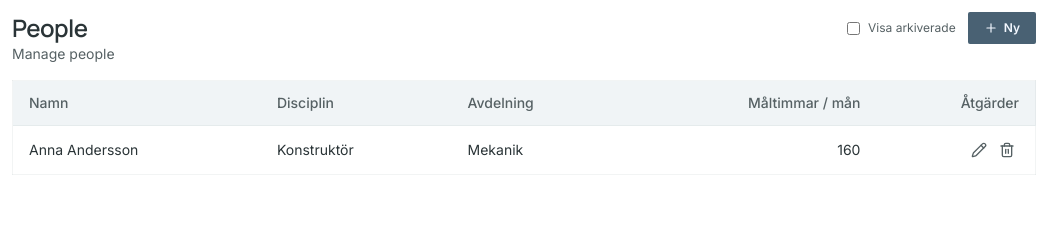
Test: Phase 43-03 — /admin/people page › archive with 409 allocations blocker shows person-specific banner
Check: the text "Anna Andersson" is shown, box [12,126,261,174]
Click the button with test id "register-archive-button": (1007, 150) [995,138,1019,162]
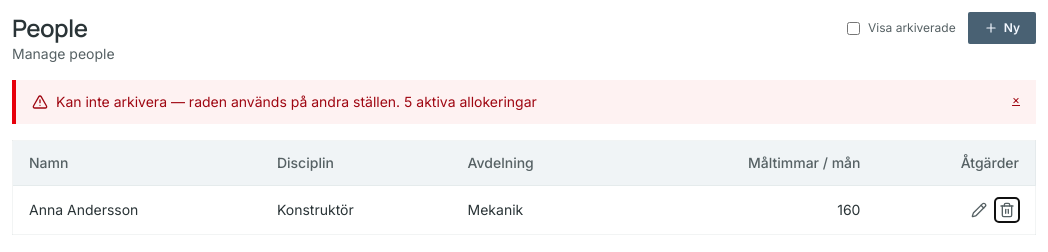
Check: the message with test id "register-banner" shows "5 aktiva allokeringar", box [56,93,537,110]
